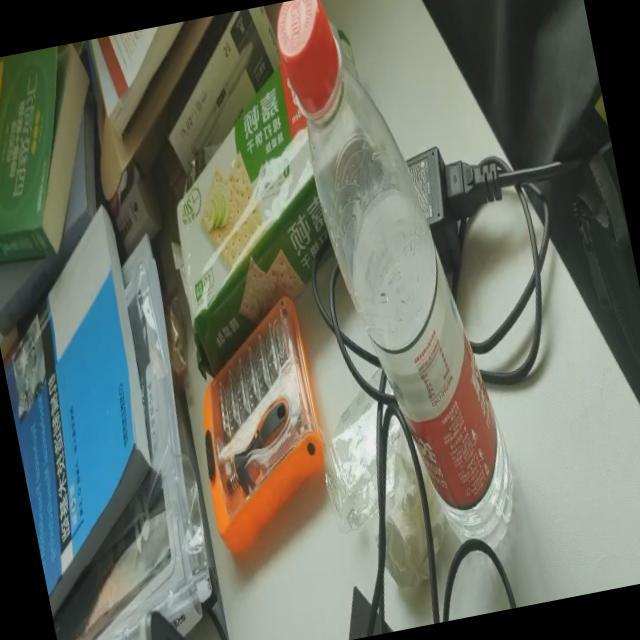good: (274, 0, 528, 587)
